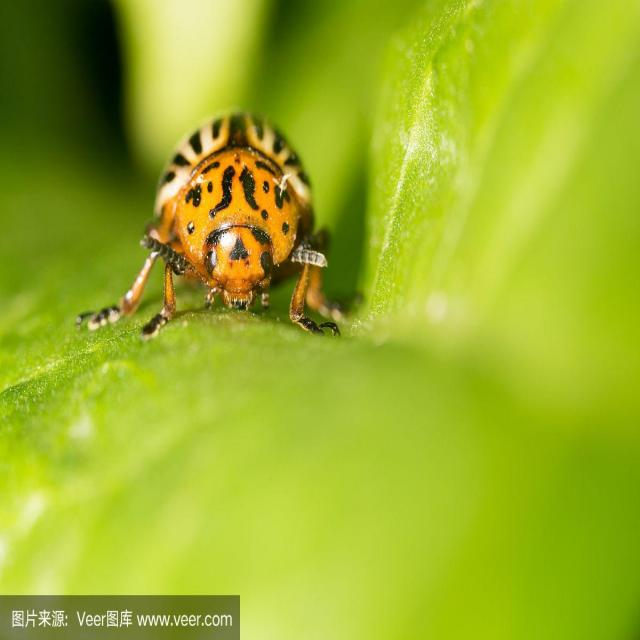ShuCaiHuaBanChong-Grown-: (119, 114, 351, 347)
